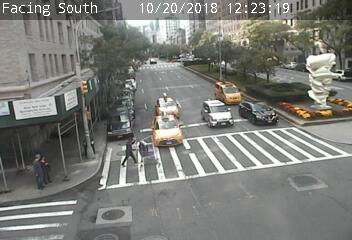car: (239, 100, 278, 125), (152, 113, 182, 145), (201, 99, 233, 127), (215, 81, 241, 104), (156, 94, 179, 118)
